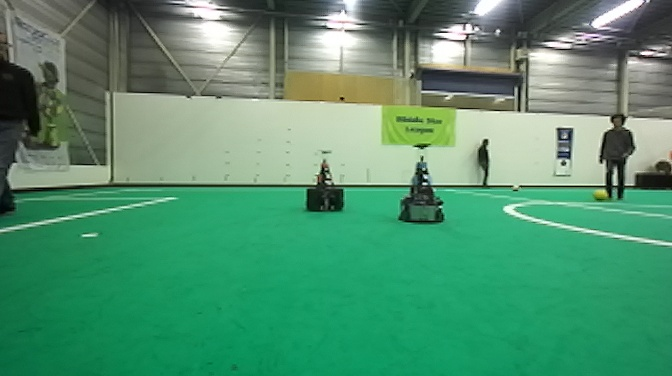ball: (591, 185, 609, 202), (509, 181, 523, 194)
human: (1, 31, 43, 223), (596, 112, 637, 201), (473, 133, 495, 189)
robot: (396, 141, 447, 225), (306, 148, 347, 212)
